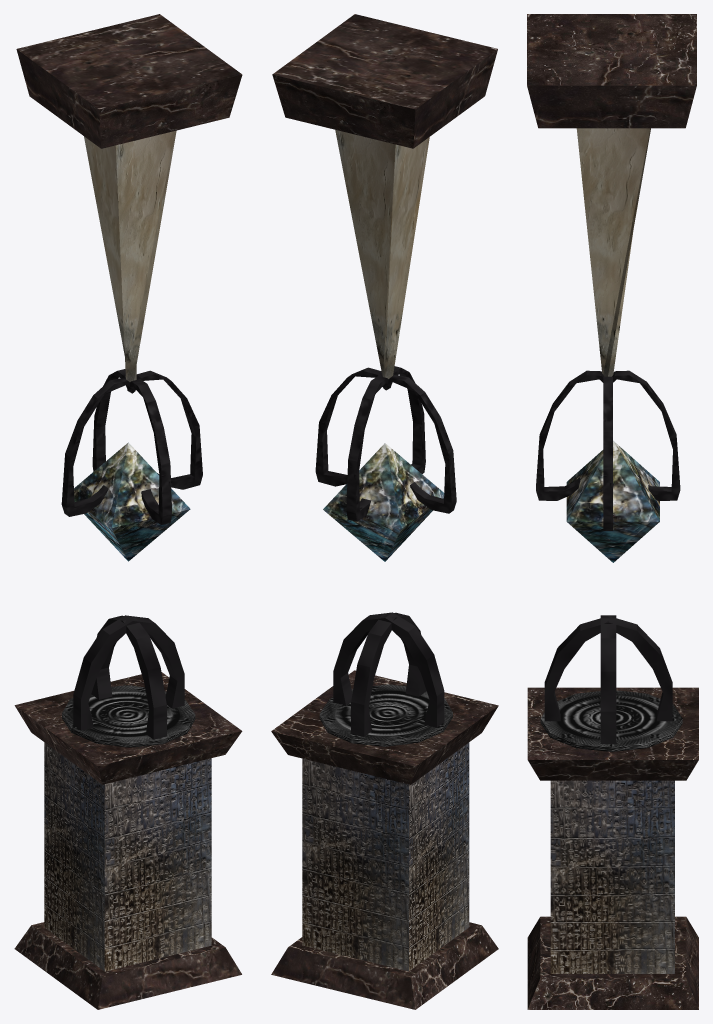
File: CHAINEDPILLAR_NOCHAINS.fbx
3 views of the same model, side by side, from view 1: azimuth 30°, elevation 25°; view 2: azimuth 150°, elevation 25°; view 3: azimuth 270°, elevation 25° (orthographic). The views are drawn at different scales.
Parts seen in each view (by area): view 1: Mesh1; view 2: Mesh1; view 3: Mesh1.
Boxes of the visible parts, x1,y1,x2,y2 form: Mesh1: (14, 14, 242, 1009); Mesh1: (271, 14, 498, 1009); Mesh1: (527, 14, 698, 1009).
Bounding box in the file's own units: 5.5 × 32.73 × 5.52.
